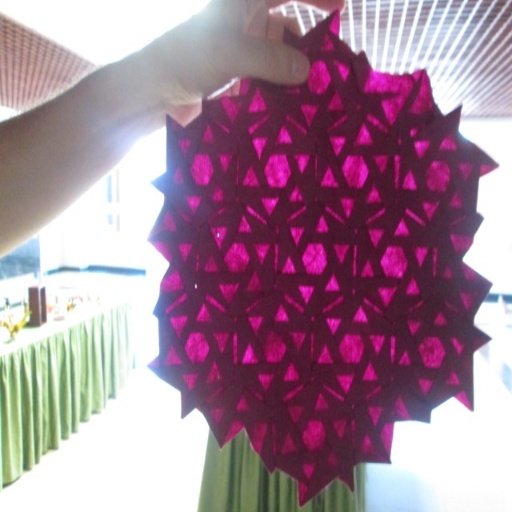hand: (163, 0, 343, 120)
